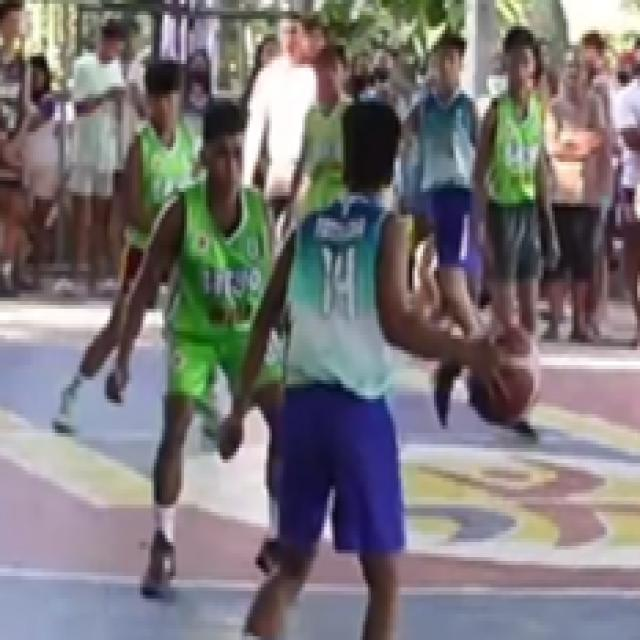ball: (456, 314, 548, 434)
